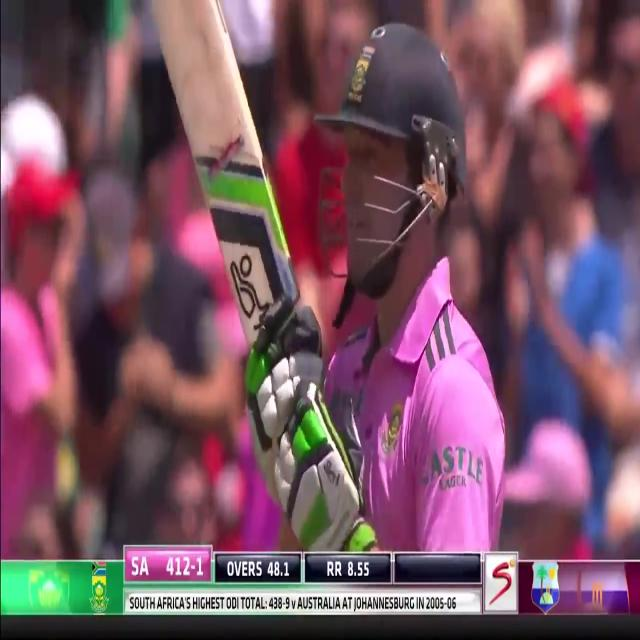Ball: (257, 14, 515, 550)
